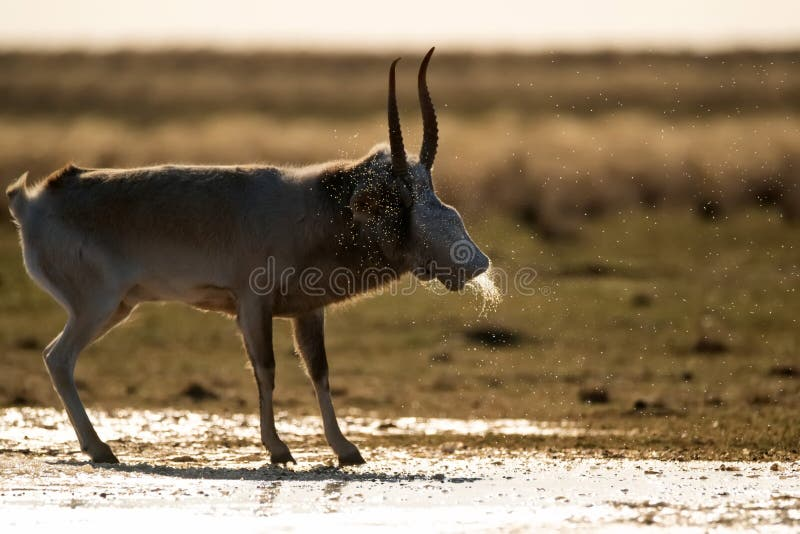saiga: (13, 39, 503, 510)
